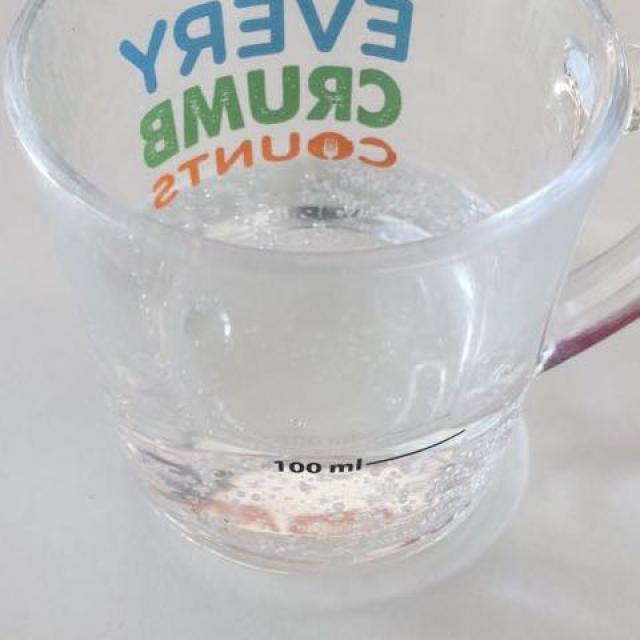water-mineral: (94, 123, 544, 568), (90, 142, 531, 571), (98, 150, 533, 571), (106, 141, 526, 568)
